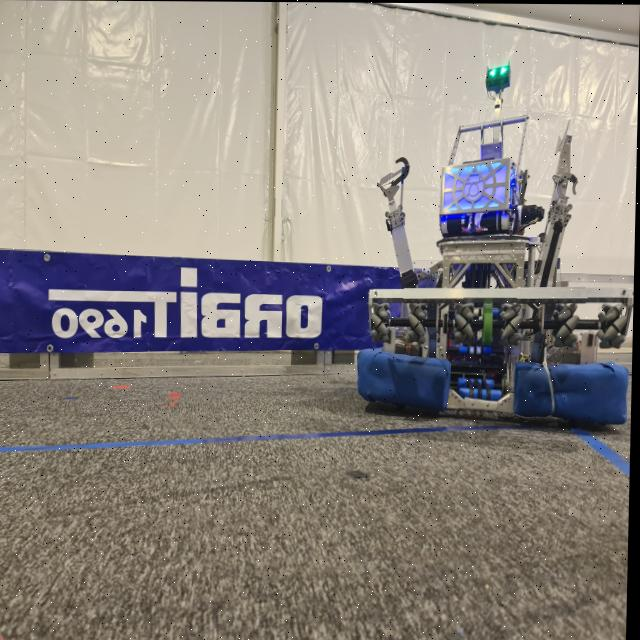robot: (354, 61, 633, 420)
